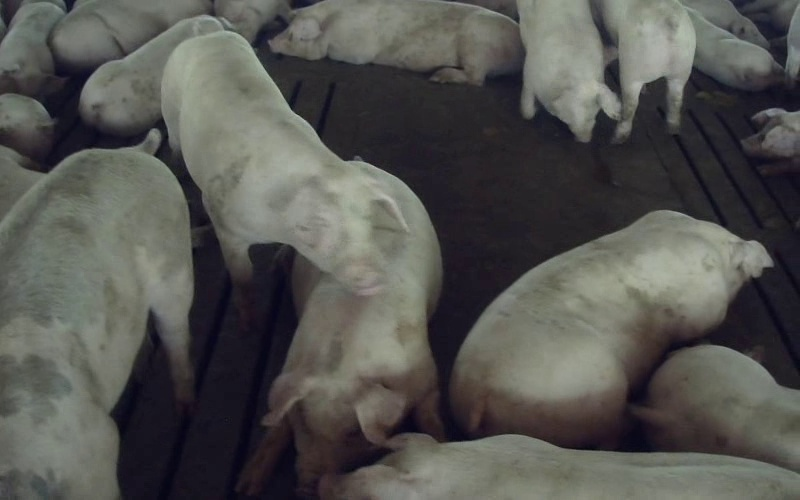pig: (450, 211, 772, 446), (0, 131, 190, 499), (239, 167, 441, 492), (162, 31, 408, 294), (319, 434, 799, 499), (269, 0, 523, 84), (632, 345, 799, 471), (79, 15, 230, 136), (518, 0, 620, 141), (597, 0, 695, 142), (49, 0, 212, 72), (687, 8, 783, 90)
